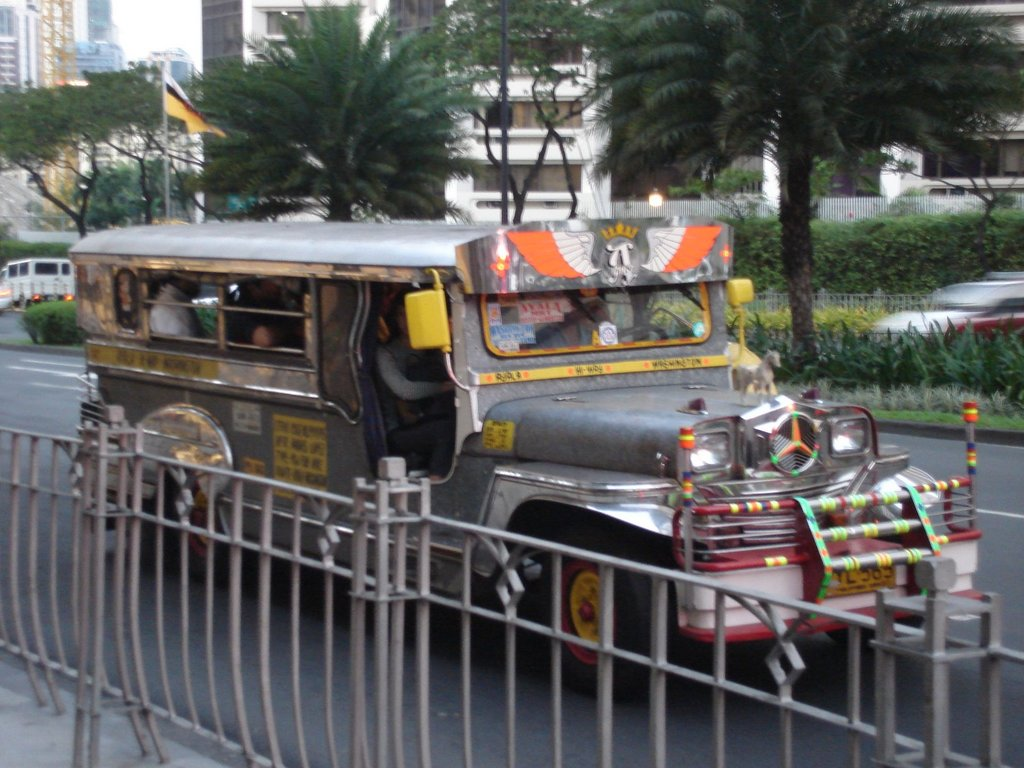Car: (867, 280, 1023, 340)
